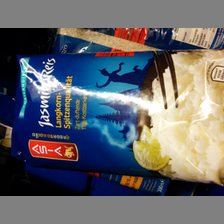rice: (11, 48, 224, 185)
